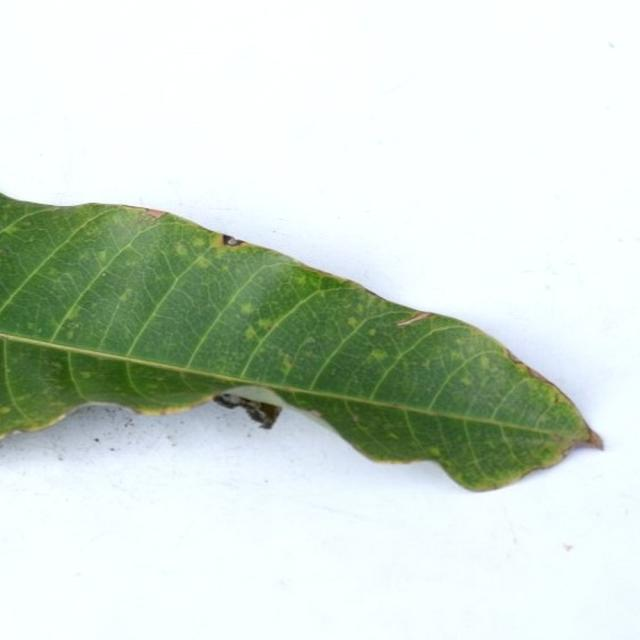Mango: (0, 194, 603, 496)
Powdery_Mildew: (36, 350, 71, 390), (143, 371, 180, 389), (164, 236, 186, 263), (236, 296, 258, 317), (2, 222, 23, 238), (512, 360, 530, 374), (64, 307, 80, 320), (256, 318, 273, 330), (370, 348, 387, 360), (244, 326, 258, 340), (281, 355, 294, 370), (119, 289, 133, 302), (478, 355, 491, 368), (96, 250, 108, 263), (192, 237, 206, 248), (195, 258, 209, 269), (293, 275, 306, 286), (552, 390, 563, 403), (428, 446, 442, 456), (451, 352, 465, 362), (346, 317, 359, 327), (50, 361, 63, 371), (460, 375, 472, 385), (48, 268, 60, 278), (303, 337, 316, 346), (355, 303, 365, 314), (211, 252, 224, 260), (455, 337, 466, 346), (17, 395, 30, 402), (80, 371, 91, 379), (388, 432, 399, 440), (26, 322, 36, 330), (21, 221, 31, 229), (0, 407, 11, 414), (368, 328, 377, 336), (66, 330, 74, 339), (148, 382, 158, 389), (351, 414, 359, 422), (101, 272, 109, 280), (35, 327, 42, 334), (102, 272, 106, 276)
